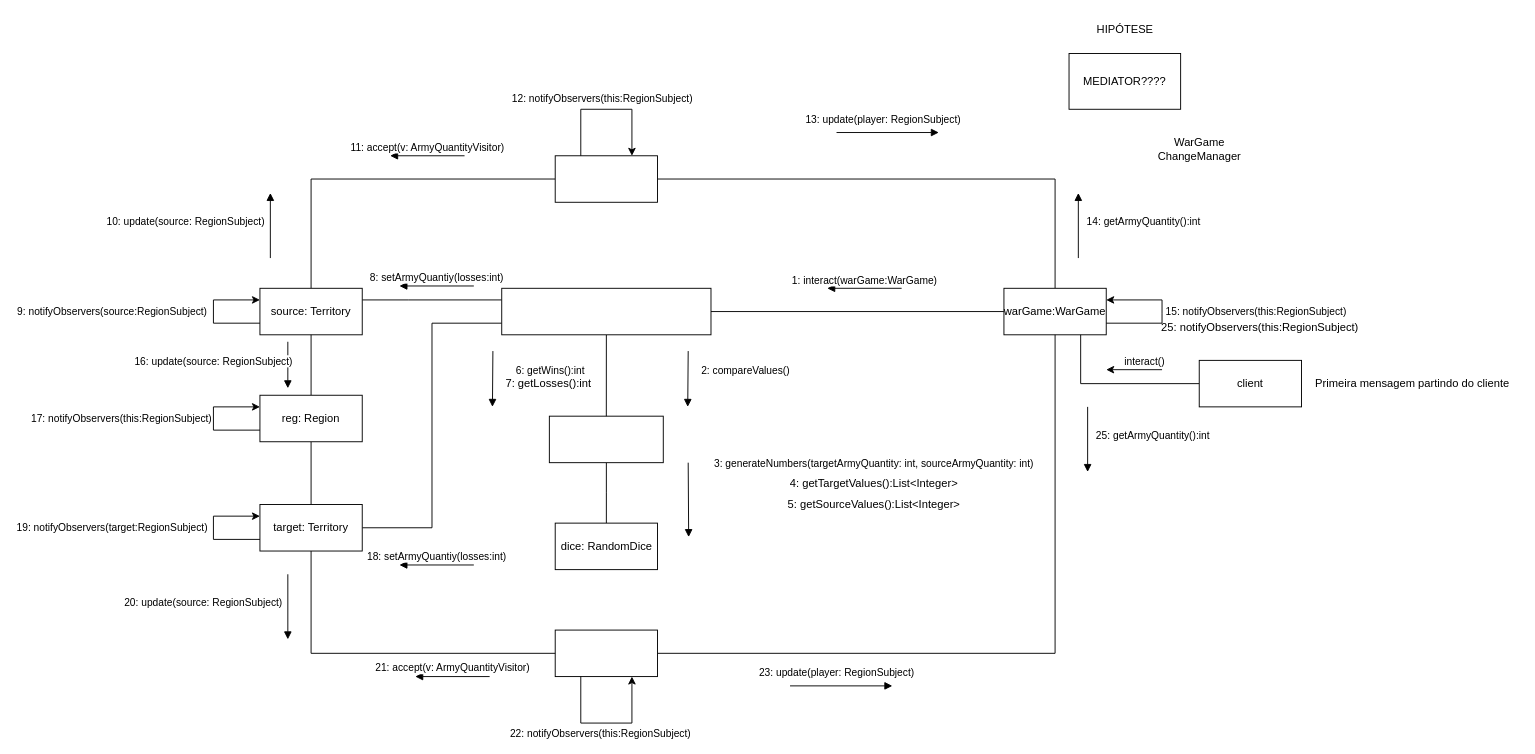
Some shapes in this 1535 by 754 pixel diagram are drawn without their labels. Each missing label, with the centre of its shape:
diceCon: DiceConfront: the point at 605,439
player1: Player: the point at 606,178
player2: Player: the point at 606,653
warGameAttackPhase:WarGameState: the point at 606,311
